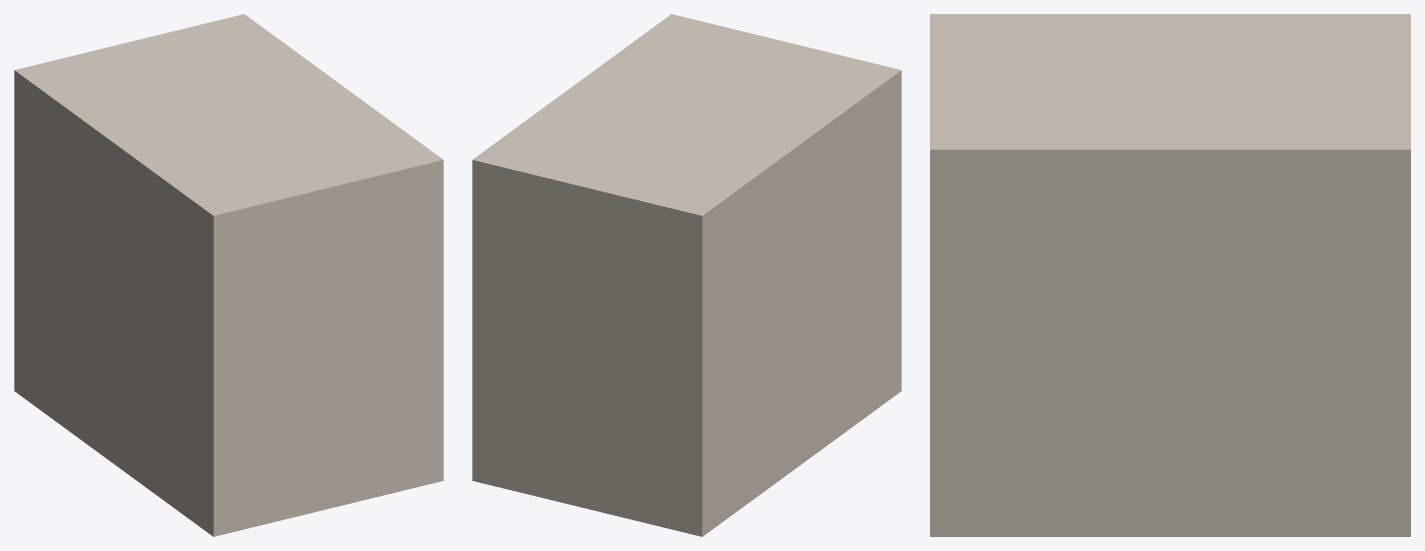
File: Preset_Church_01_A_Optimized.glb
3 views of the same model, side by side, from view 1: azimuth 30°, elevation 25°; view 2: azimuth 150°, elevation 25°; view 3: azimuth 270°, elevation 25° (orthographic). The views are drawn at different scales.
Parts seen in each view (by area): view 1: Preset_Church_01_A_Optimized; view 2: Preset_Church_01_A_Optimized; view 3: Preset_Church_01_A_Optimized.
Boxes of the visible parts, x1=… form: Preset_Church_01_A_Optimized: x1=14, y1=14, x2=443, y2=536; Preset_Church_01_A_Optimized: x1=472, y1=14, x2=901, y2=536; Preset_Church_01_A_Optimized: x1=930, y1=14, x2=1410, y2=536.
Size of the model in its own units: 6 by 8 by 9.
